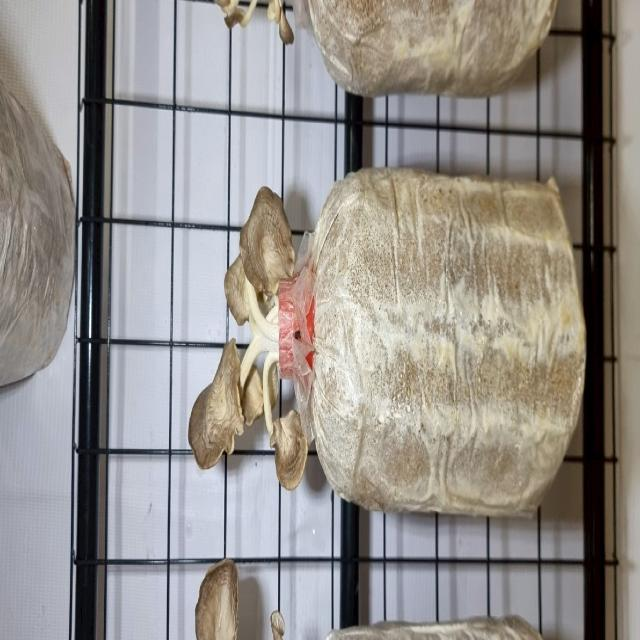abnormal: (188, 335, 255, 473), (240, 182, 298, 309), (264, 389, 314, 500)
